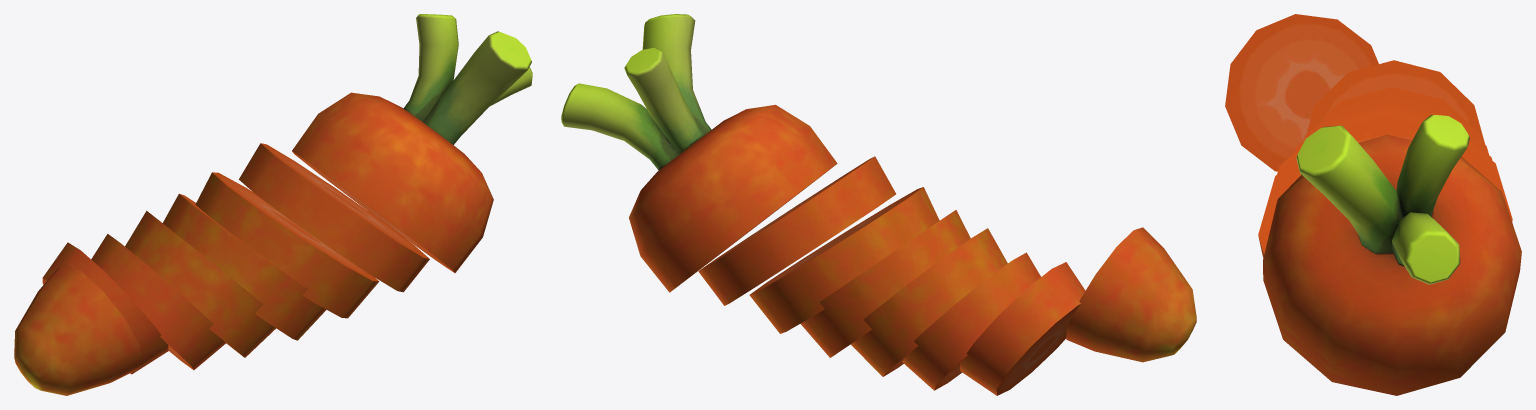
File: m_ingredients_Carrot_01_Trim.fbx
3 renders of one model, left to right at view 1: azimuth 30°, elevation 25°; view 2: azimuth 150°, elevation 25°; view 3: azimuth 270°, elevation 25°, orthographic. The views are drawn at different scales.
Visible parts, largest first — view 1: Carrot_Sliced1; view 2: Carrot_Sliced1; view 3: Carrot_Sliced1.
Part boxes in pixels (left/top/right/bottom): Carrot_Sliced1: left=14, top=14, right=532, bottom=395; Carrot_Sliced1: left=561, top=14, right=1196, bottom=395; Carrot_Sliced1: left=1225, top=14, right=1521, bottom=395.
Bounding box in the file's own units: 11.52 × 5.37 × 4.29.
Materials: 1 (1 with a texture image).
